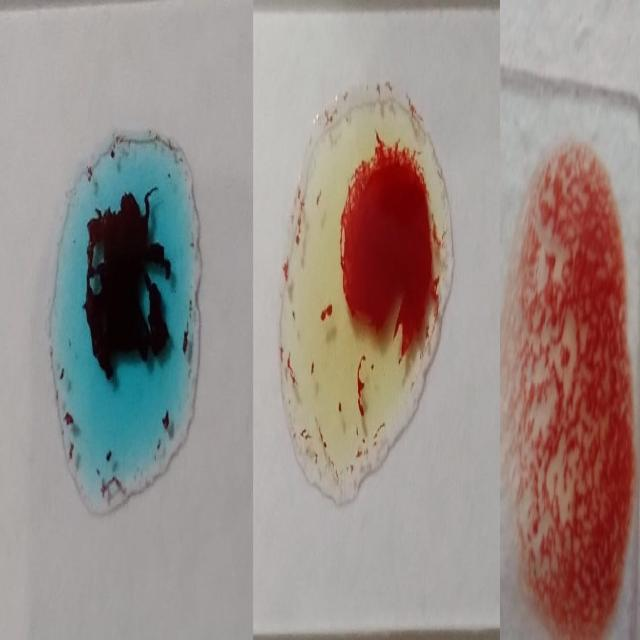A: (48, 134, 200, 522)
B: (286, 89, 448, 518)
D: (506, 144, 637, 634)
